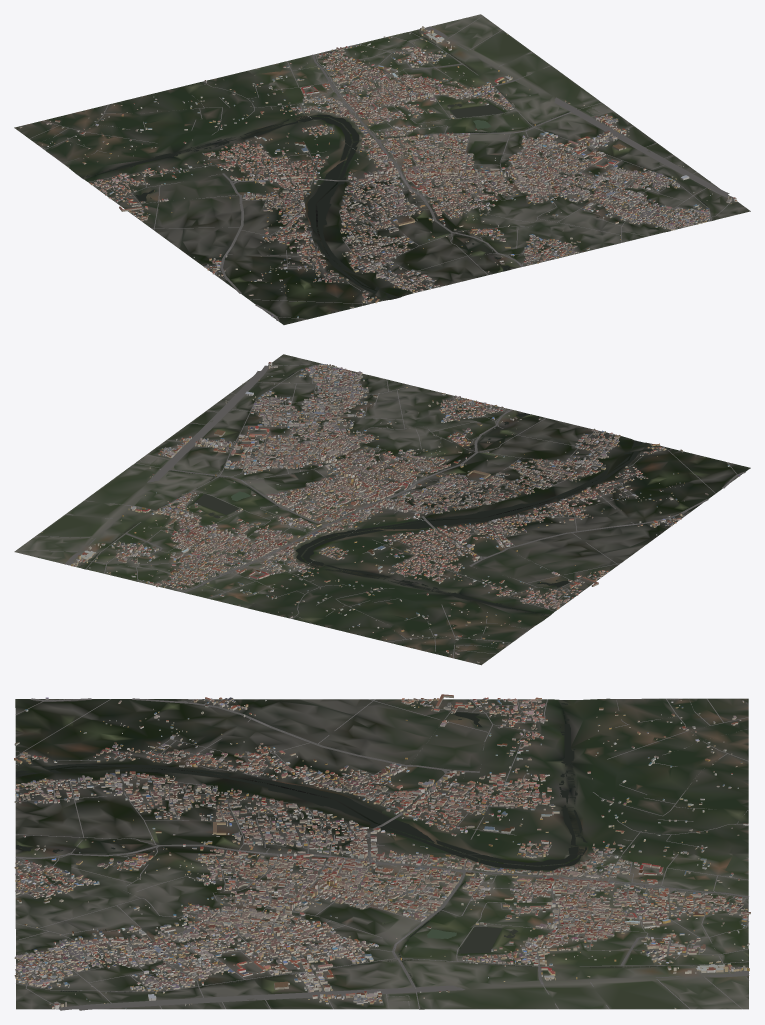
3 views of the same model, one above another, from view 1: azimuth 30°, elevation 25°; view 2: azimuth 150°, elevation 25°; view 3: azimuth 270°, elevation 25° (orthographic). The views are drawn at different scales.
Parts seen in each view (by area): view 1: ground, buildings, roads, water; view 2: ground, buildings, roads, water; view 3: ground, buildings, roads, water.
Part boxes in pixels (x1,y1,x2,y2): ground: (14,14,750,324); buildings: (20,26,737,318); roads: (16,16,732,320); water: (86,32,707,299); ground: (14,354,750,665); buildings: (41,362,740,662); roads: (16,364,745,663); water: (81,373,642,615); ground: (15,698,748,1009); buildings: (14,694,750,1009); roads: (15,698,749,1010); water: (16,703,744,1008).
Bounding box in the file's own units: 2848 × 33.89 × 2819.
